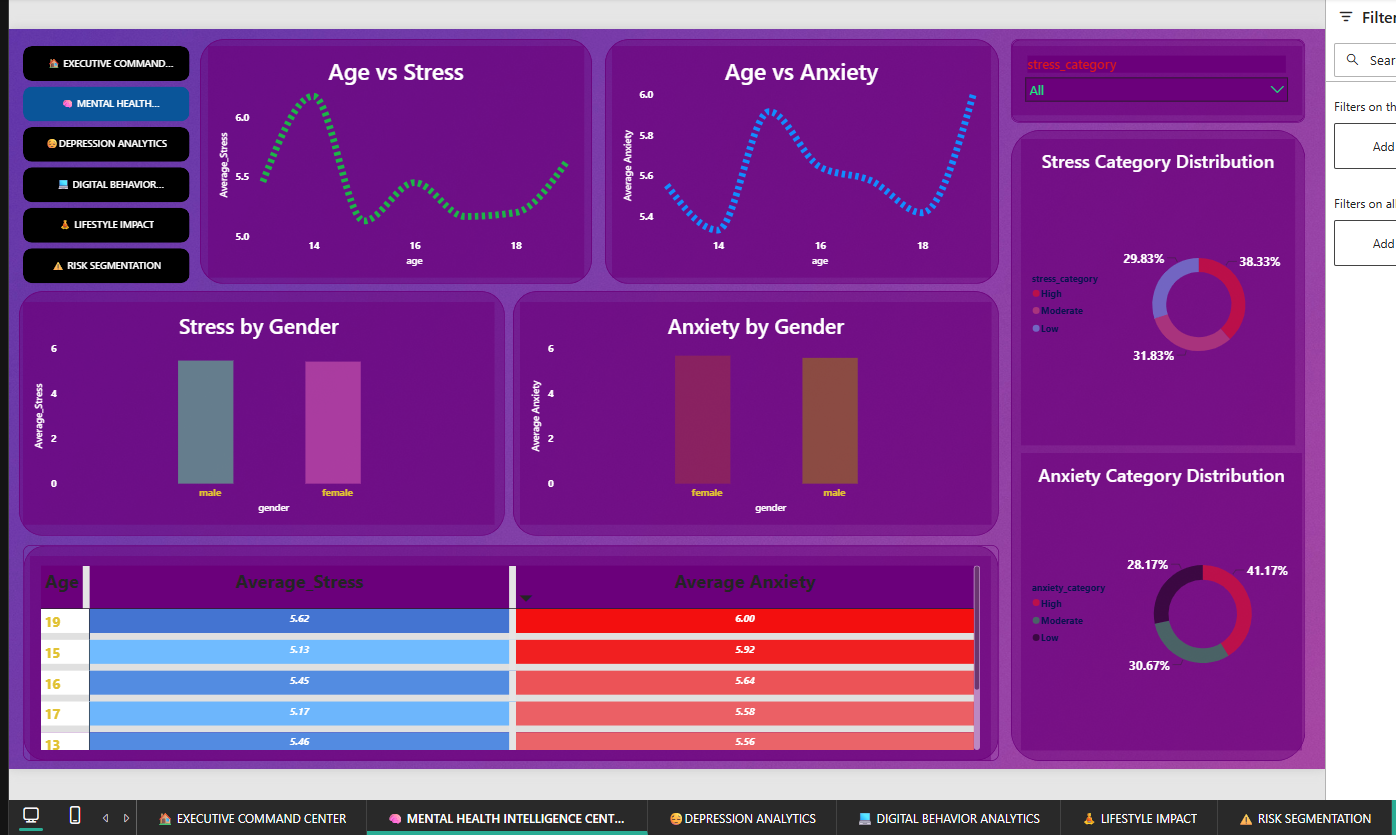

What the dashboard file says about the page in this screenshot:
{"tool":"powerbi","page":{"name":"🧠 MENTAL HEALTH INTELLIGENCE CENTER","canvas":[1920,1080],"ordinal":1},"visuals":[{"type":"textbox","box":[21,328.5,300,169],"z":0},{"type":"shape","box":[278.7,14.6,571.9,357.4],"z":1000},{"type":"shape","box":[1461.8,147.1,429.4,920.6],"z":2000},{"type":"shape","box":[20.4,752.8,1424,315.1],"z":3000},{"type":"donutChart","title":"Stress Category Distribution","fields":{"Category":["vw_mental_health_analytics.stress_category"],"Y":["vw_mental_health_analytics.Total Students"]},"box":[1476.5,160.3,400,447.1],"z":4000},{"type":"donutChart","title":"Anxiety Category Distribution","fields":{"Category":["vw_mental_health_analytics.anxiety_category"],"Y":["vw_mental_health_analytics.Total Students"]},"box":[1476.5,619.1,410.3,433.8],"z":5000},{"type":"lineChart","title":"Age vs Stress","fields":{"Category":["vw_mental_health_analytics.age"],"Y":["vw_mental_health_analytics.Average_Stress"]},"box":[290.3,24.8,548.6,338.5],"z":6000},{"type":"shape","box":[869.5,14.6,574.8,357.4],"z":7000},{"type":"lineChart","title":"Age vs Anxiety","fields":{"Category":["vw_mental_health_analytics.age"],"Y":["vw_mental_health_analytics.Average Anxiety"]},"box":[879.8,24.8,552.9,338.5],"z":8000},{"type":"shape","box":[735.3,382.4,708.8,357.4],"z":9000},{"type":"shape","box":[14.7,382.4,708.8,357.4],"z":10000},{"type":"clusteredColumnChart","title":"Anxiety by Gender","fields":{"Category":["vw_mental_health_analytics.gender"],"Y":["vw_mental_health_analytics.Average Anxiety"]},"box":[745.6,398.5,688.2,325],"z":11000},{"type":"clusteredColumnChart","title":"Stress by Gender","fields":{"Category":["vw_mental_health_analytics.gender"],"Y":["vw_mental_health_analytics.Average_Stress"]},"box":[20.6,398.5,688.2,325],"z":12000},{"type":"shape","box":[1461.8,14.7,429.4,122.1],"z":13000},{"type":"pivotTable","fields":{"Rows":["vw_mental_health_analytics.age"],"Values":["vw_mental_health_analytics.Average_Stress","vw_mental_health_analytics.Average Anxiety"]},"box":[30.6,768.9,1402.1,299.1],"z":14000},{"type":"slicer","fields":{"Values":["vw_mental_health_analytics.stress_category"]},"box":[1461.9,24.8,424.6,100.7],"z":15000},{"type":"pageNavigator","box":[20.4,24.8,243.6,347.2],"z":16000}]}

Visuals, with their boxes on the page's 1920x1080 design canvas (x1, y1, x2, y2). These are canvas units, not pixel positions in the 1396x835 screenshot, which may show the page scaled, cropped or inside an application window:
textbox: [left=21, top=328, right=321, bottom=498]
shape: [left=279, top=15, right=851, bottom=372]
shape: [left=1462, top=147, right=1891, bottom=1068]
shape: [left=20, top=753, right=1444, bottom=1068]
"Stress Category Distribution" donutChart: [left=1476, top=160, right=1876, bottom=607]
"Anxiety Category Distribution" donutChart: [left=1476, top=619, right=1887, bottom=1053]
"Age vs Stress" lineChart: [left=290, top=25, right=839, bottom=363]
shape: [left=870, top=15, right=1444, bottom=372]
"Age vs Anxiety" lineChart: [left=880, top=25, right=1433, bottom=363]
shape: [left=735, top=382, right=1444, bottom=740]
shape: [left=15, top=382, right=724, bottom=740]
"Anxiety by Gender" clusteredColumnChart: [left=746, top=398, right=1434, bottom=724]
"Stress by Gender" clusteredColumnChart: [left=21, top=398, right=709, bottom=724]
shape: [left=1462, top=15, right=1891, bottom=137]
pivotTable - vw_mental_health_analytics.age x vw_mental_health_analytics.Average_Stress: [left=31, top=769, right=1433, bottom=1068]
slicer - vw_mental_health_analytics.stress_category: [left=1462, top=25, right=1886, bottom=126]
pageNavigator: [left=20, top=25, right=264, bottom=372]
